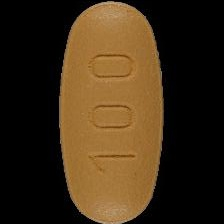0131-2478: (0, 0, 224, 224)
